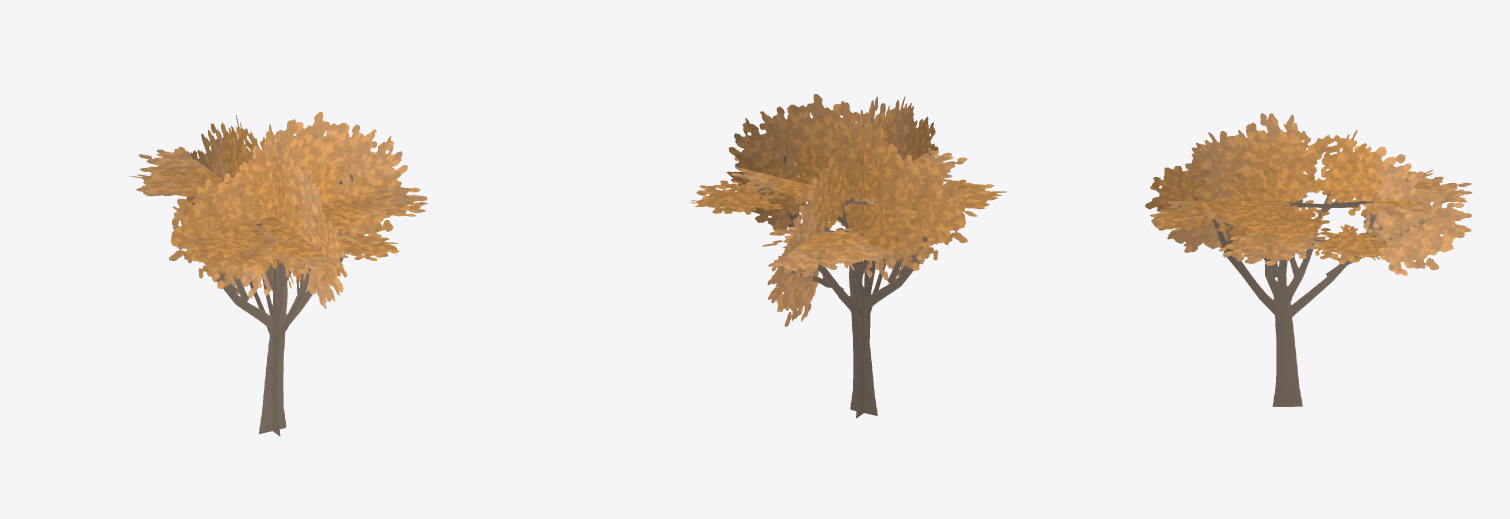
Rendered from maple_autumn_1_far.glb.
3 renders of one model, left to right at view 1: azimuth 30°, elevation 25°; view 2: azimuth 150°, elevation 25°; view 3: azimuth 270°, elevation 25°, orthographic. The views are drawn at different scales.
Visible parts, largest first — view 1: maple_autumn_1_far; view 2: maple_autumn_1_far; view 3: maple_autumn_1_far.
Boxes of the visible parts, box(x1,y1,x2,y2) form: maple_autumn_1_far: box(129, 112, 427, 436); maple_autumn_1_far: box(688, 94, 1006, 418); maple_autumn_1_far: box(1145, 113, 1472, 406).
Size of the model in its own units: 10 by 10 by 10.
1 material, 1 textured.
